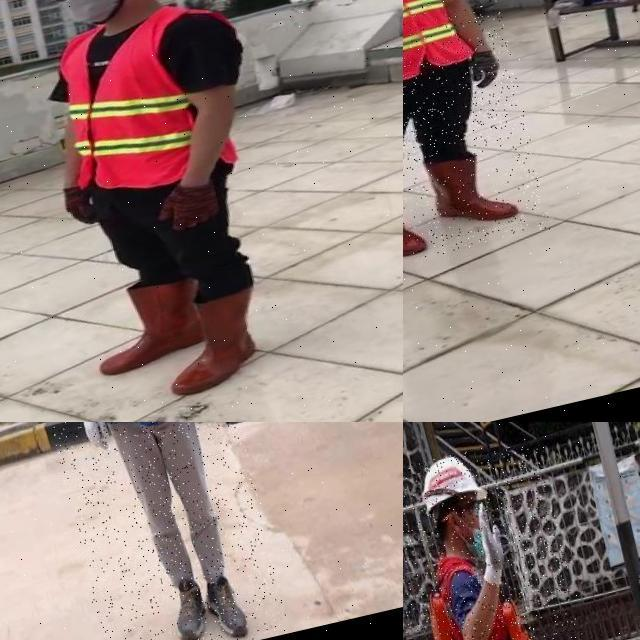boots: (82, 272, 212, 376), (153, 289, 272, 398), (421, 138, 528, 235), (200, 572, 252, 640), (166, 574, 215, 640), (403, 169, 432, 264)
helmet: (411, 448, 492, 521)
vest: (48, 0, 240, 200), (417, 538, 558, 640), (403, 0, 476, 97)
